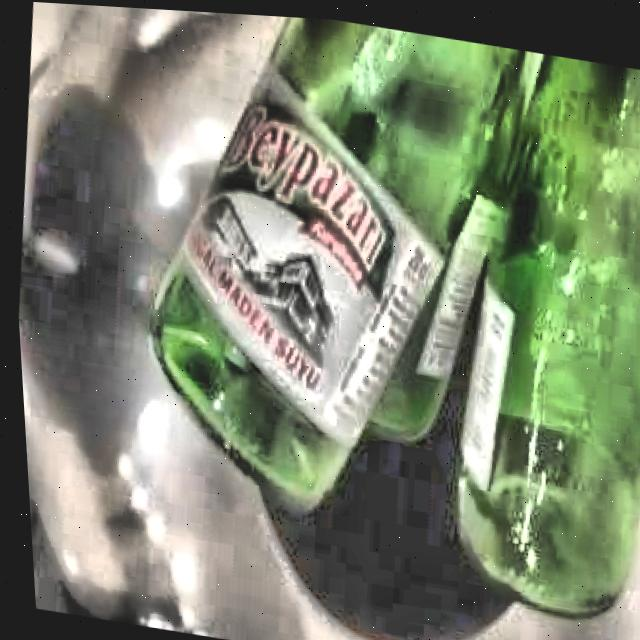glass: (148, 13, 640, 613)
